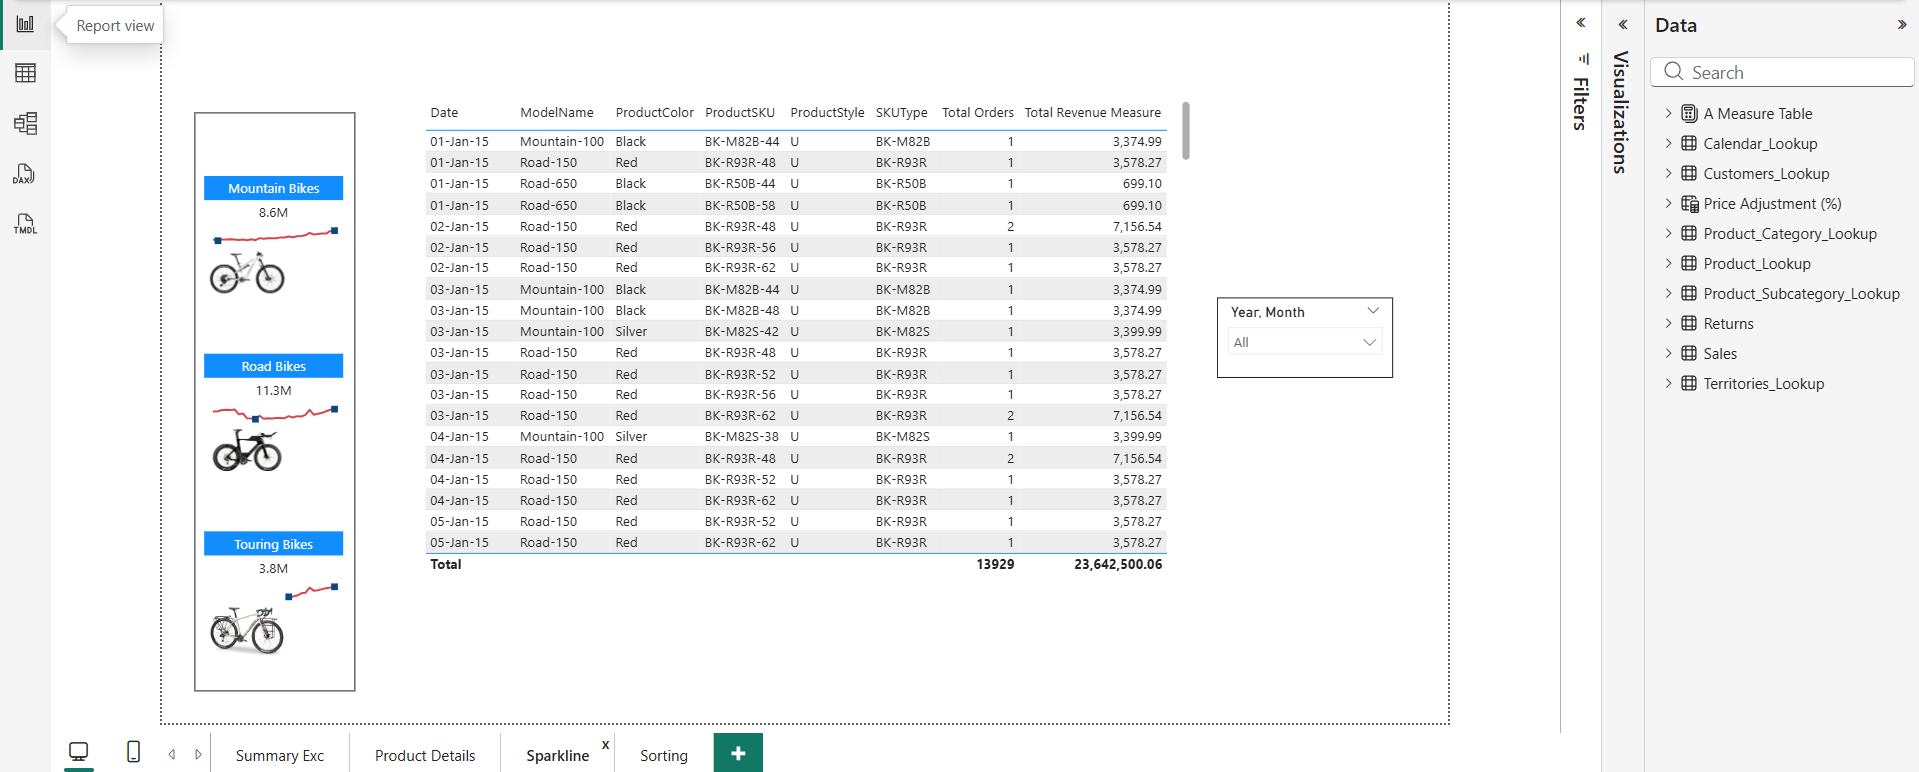

What the dashboard file says about the page in this screenshot:
{"tool":"powerbi","page":{"name":"Sparkline","canvas":[1280,720],"ordinal":2},"visuals":[{"type":"pivotTable","fields":{"Rows":["Product_Subcategory_Lookup.SubcategoryName"],"Values":["Min(Product_Subcategory_Lookup.SubcategoryName)","A Measure Table.Total Revenue Measure","SparklineData(A Measure Table.Total Revenue Measure_[Calendar_Lookup.YearMonth])","Min(Product_Subcategory_Lookup.Picture)"]},"box":[32,112,160,576],"z":0},{"type":"slicer","fields":{"Values":["Calendar_Lookup.Date.Variation.Date Hierarchy.Year","Calendar_Lookup.Date.Variation.Date Hierarchy.Month"]},"box":[1049.9,296.1,175.4,79.6],"z":1000},{"type":"tableEx","fields":{"Values":["Calendar_Lookup.Date","Product_Lookup.ModelName","Product_Lookup.ProductColor","Product_Lookup.ProductSKU","Product_Lookup.ProductStyle","Product_Lookup.SKUType","A Measure Table.Total Orders","A Measure Table.Total Revenue Measure"]},"box":[256.3,95.8,772.5,480.2],"z":2000}]}

Visuals, with their boxes on the page's 1280x720 design canvas (x1, y1, x2, y2). These are canvas units, not pixel positions in the 1919x772 screenshot, which may show the page scaled, cropped or inside an application window:
pivotTable - Product_Subcategory_Lookup.SubcategoryName x Min(Product_Subcategory_Lookup.SubcategoryName): l=32, t=112, r=192, b=688
slicer - Calendar_Lookup.Date.Variation.Date Hierarchy.Year x Calendar_Lookup.Date.Variation.Date Hierarchy.Month: l=1050, t=296, r=1225, b=376
tableEx - Calendar_Lookup.Date x Product_Lookup.ModelName: l=256, t=96, r=1029, b=576
